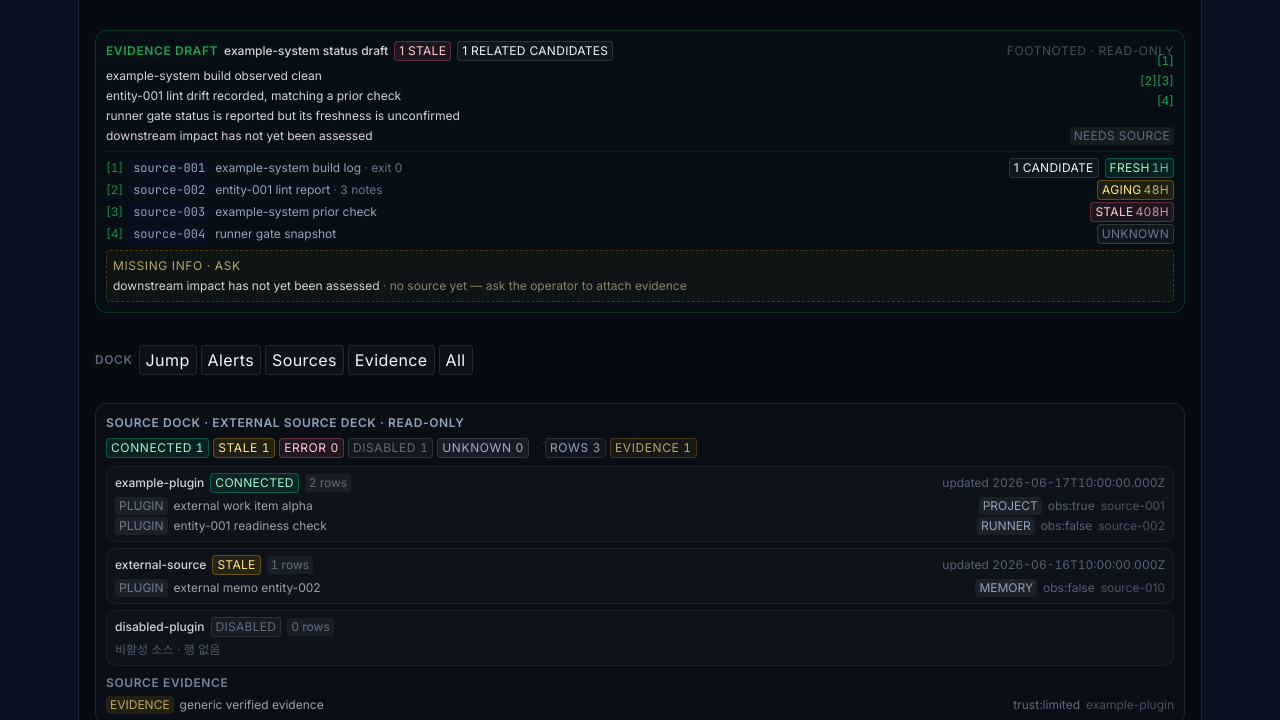
it: Batch 16 LINE C — Source Dock quick controls › 'evidence' hides source rows; 'sources' hides evidence; 'all' restores
(page scrolled)
Step 1. Click the button with test id "dock-ctl-evidence" → coordinates (391, 360), box [348, 345, 434, 375]
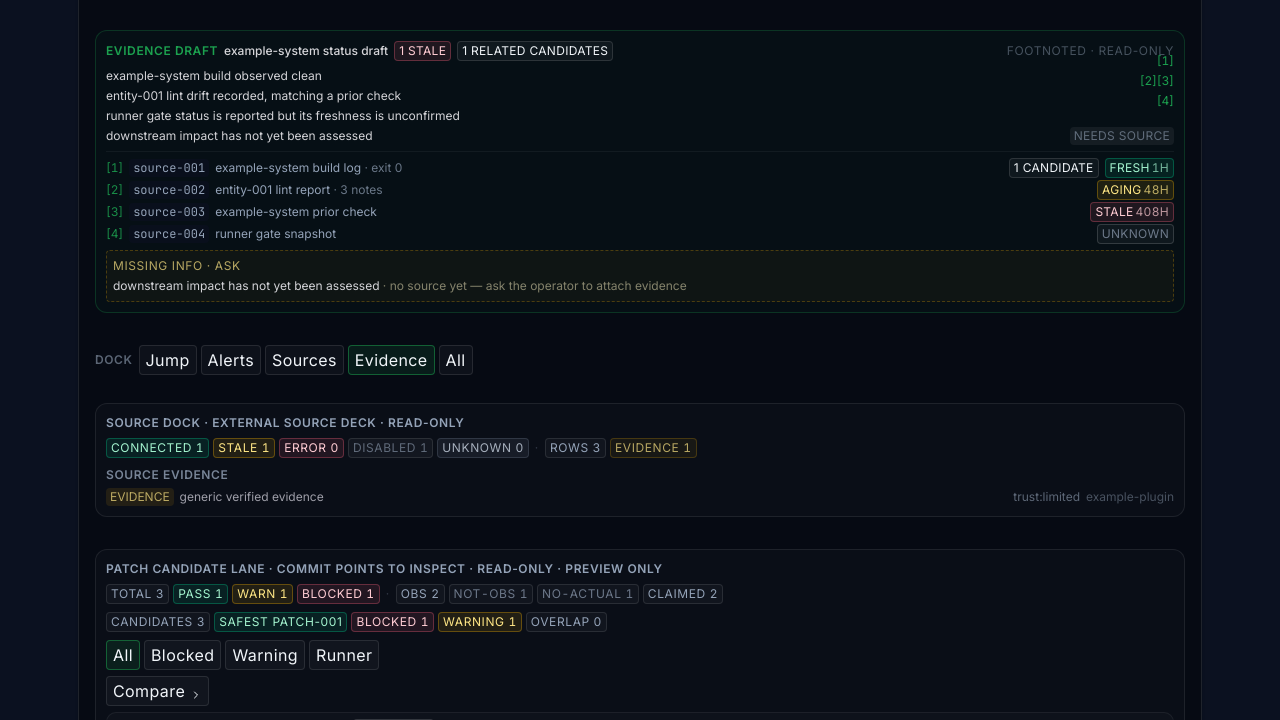
Expected: the element with test id "plugin-evidence" is shown, [106, 466, 1174, 506]
Expected: the element with test id "plugin-source-example-plugin" is gone
Step 2. Click the button with test id "dock-ctl-sources" → coordinates (304, 360), box [265, 345, 344, 375]
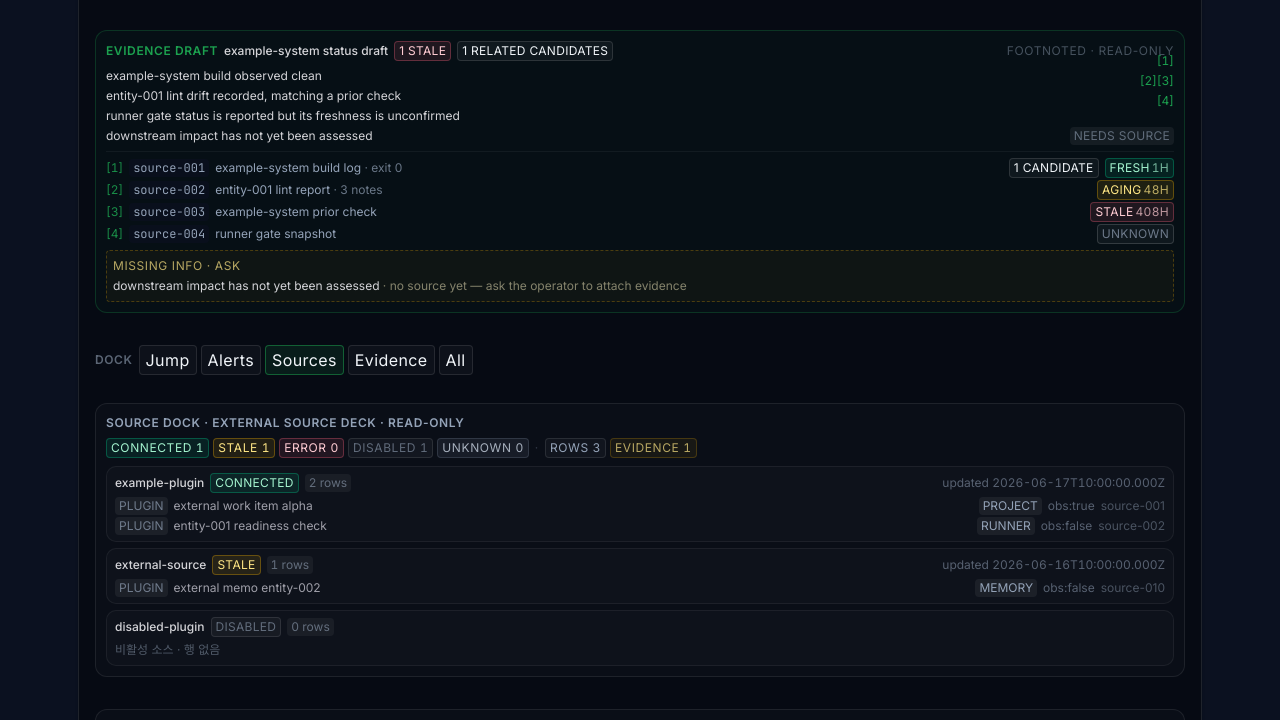
Expected: the element with test id "plugin-source-example-plugin" is shown, [106, 466, 1174, 542]
Expected: the element with test id "plugin-evidence" is gone
Step 3. Click the button with test id "dock-ctl-all" → coordinates (456, 360), box [439, 345, 473, 375]
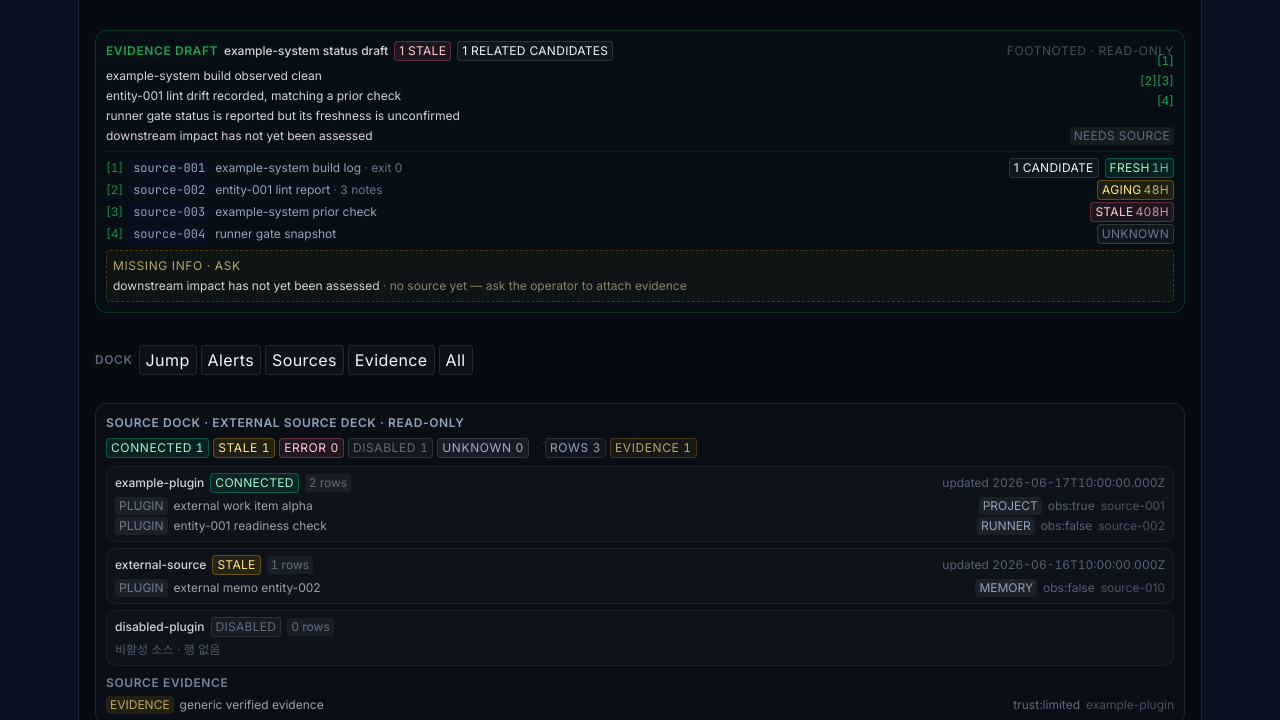
Expected: the element with test id "plugin-source-example-plugin" is shown, [106, 466, 1174, 542]
Expected: the element with test id "plugin-evidence" is shown, [106, 674, 1174, 714]
